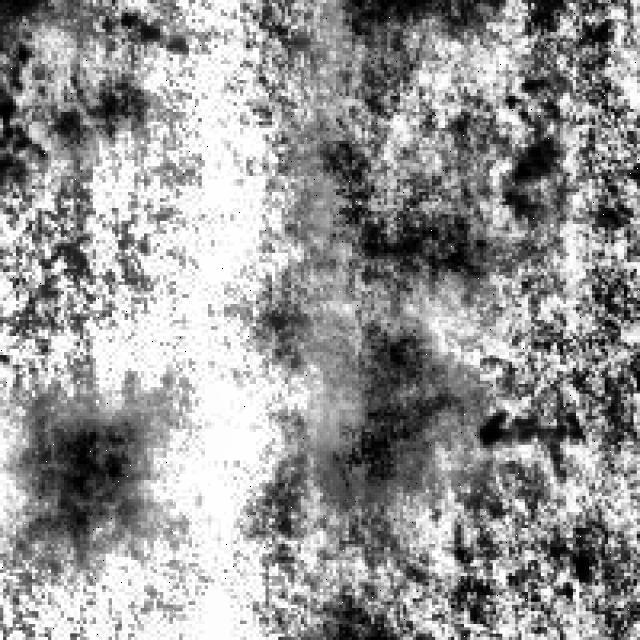Scratches: (323, 141, 493, 301), (316, 320, 458, 502), (32, 391, 179, 532)
